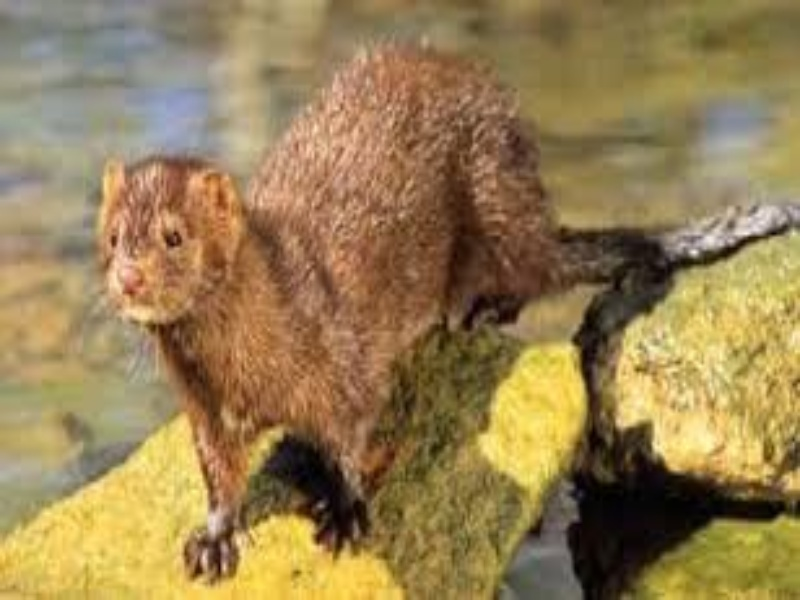minkish: (91, 34, 774, 584)
